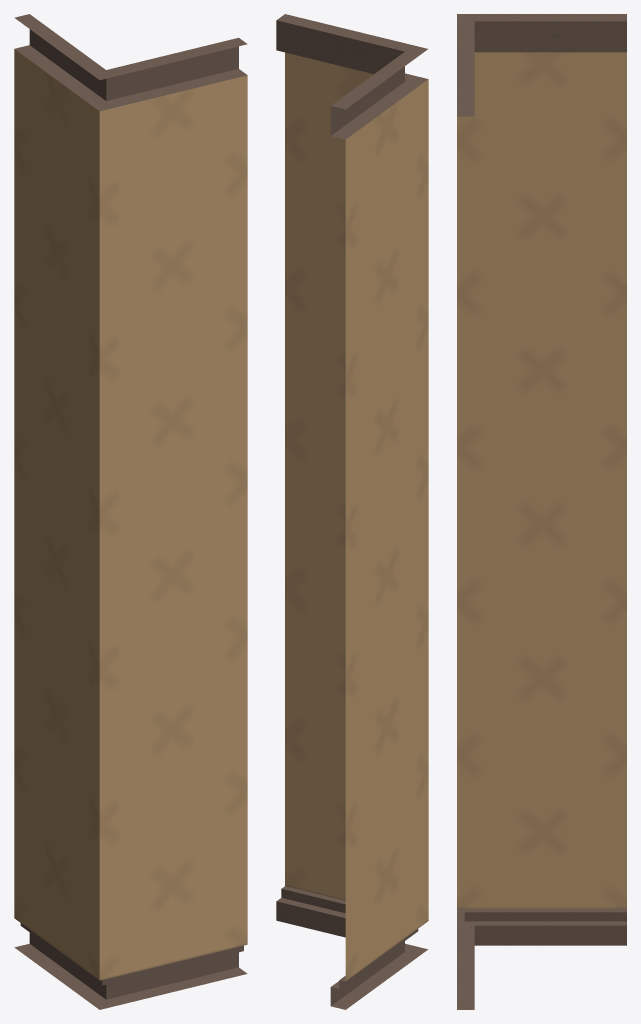
The model's file is Wall Room Corner Concave Small.fbx.
The picture shows the model from 3 angles, left to right: view 1: azimuth 30°, elevation 25°; view 2: azimuth 150°, elevation 25°; view 3: azimuth 270°, elevation 25°; orthographic projection. The views are drawn at different scales.
Visible parts, largest first — view 1: Wall Room Corner Concave Small.001; view 2: Wall Room Corner Concave Small.001; view 3: Wall Room Corner Concave Small.001.
Part boxes in pixels (x1,y1,x2,y2): Wall Room Corner Concave Small.001: (14,14,247,1009); Wall Room Corner Concave Small.001: (276,14,428,1009); Wall Room Corner Concave Small.001: (457,14,626,1009).
Bounding box in the file's own units: 1 × 6 × 1.
